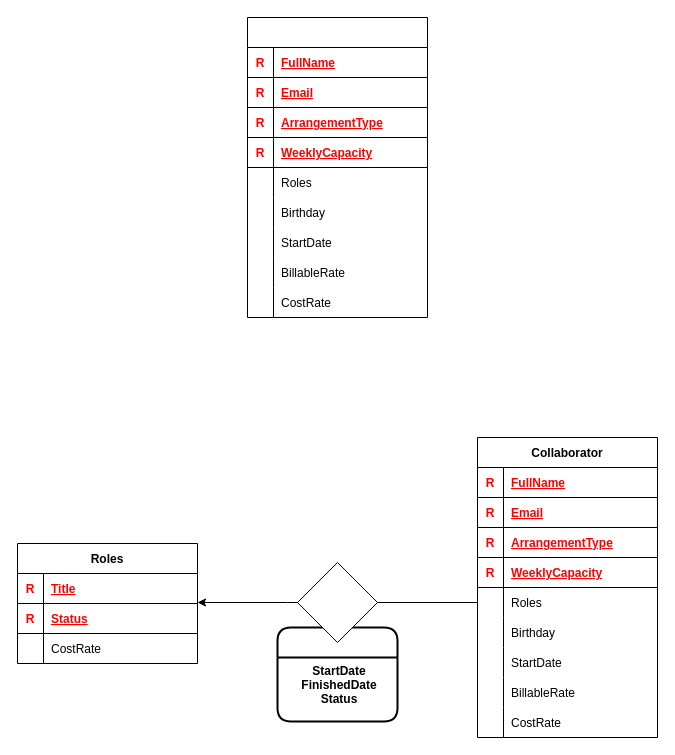
The diagram is 675 pixels wide and 755 high, and some of its shapes have lost their labels. The box of each missing label's shape, as (x1, y1, x2, y2) in pixels:
HAS: (296, 562, 378, 642)
Project: (246, 16, 428, 318)
